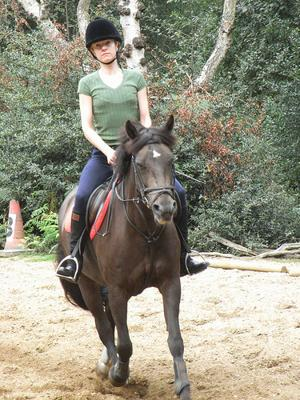person: (62, 18, 209, 283)
